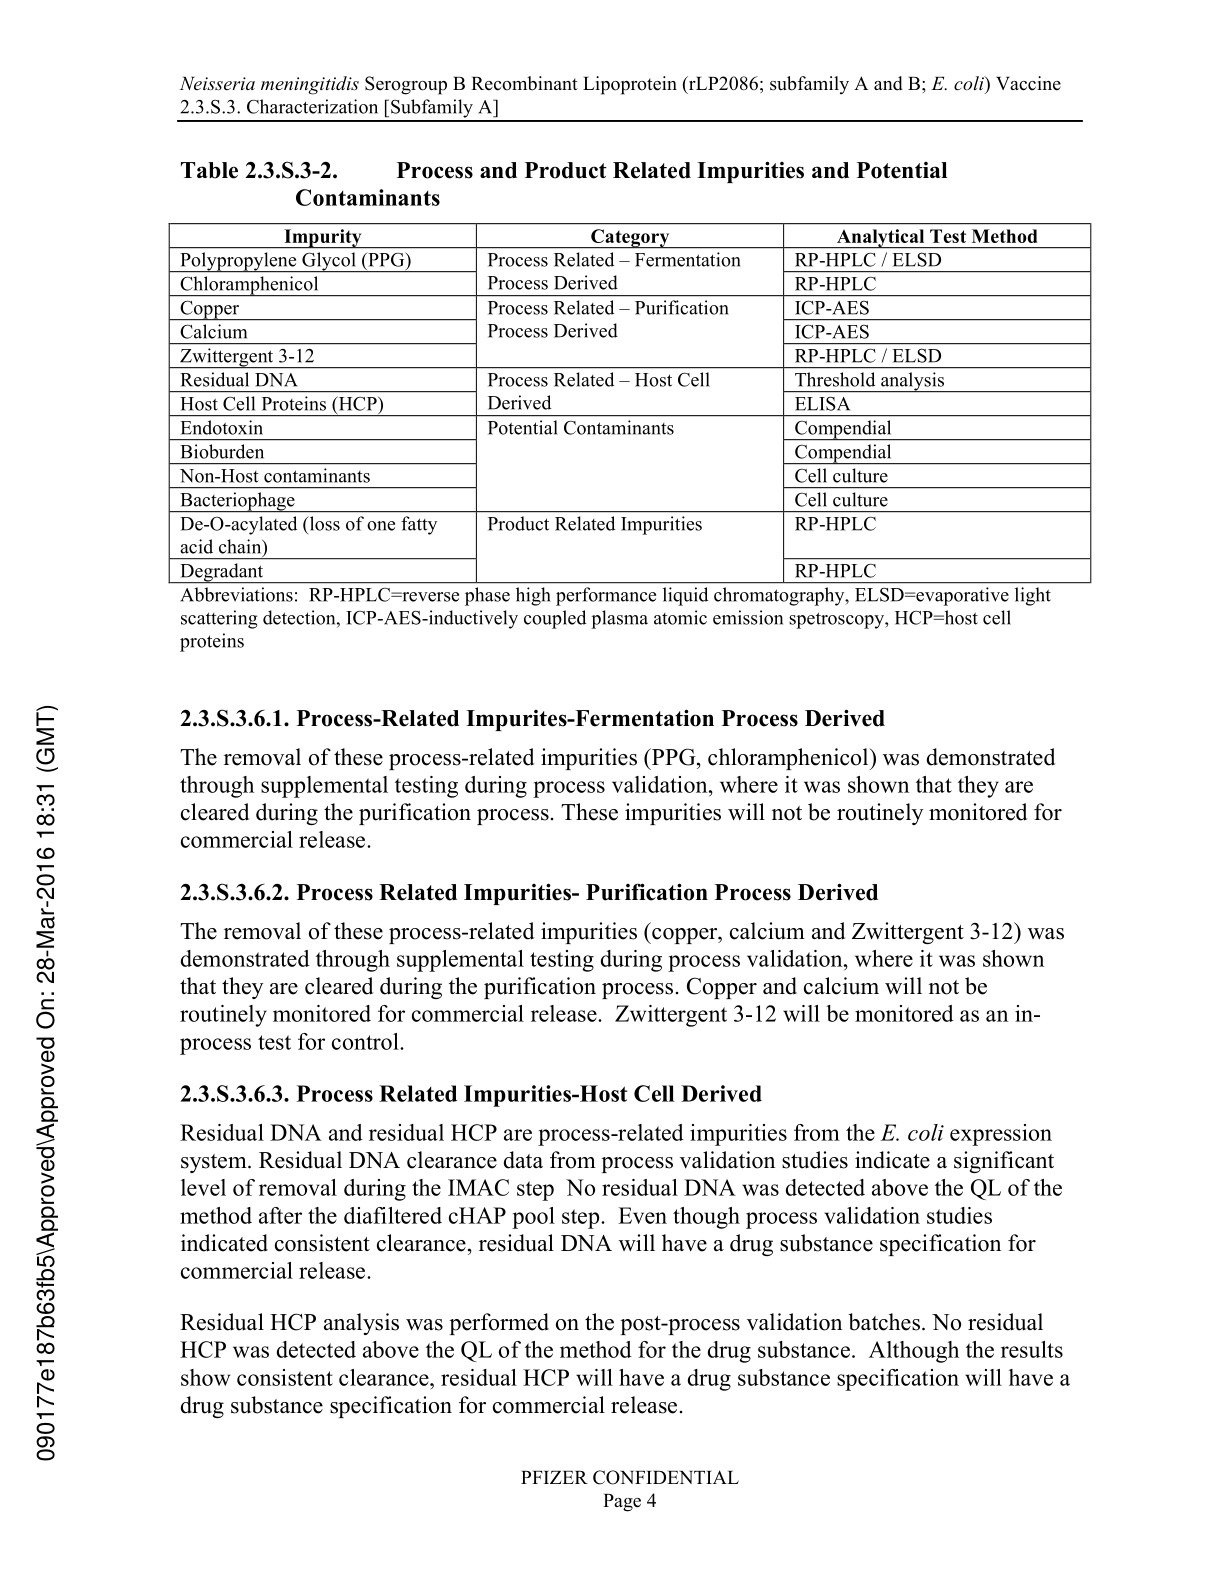merged_cells: (168, 222, 1092, 584)
